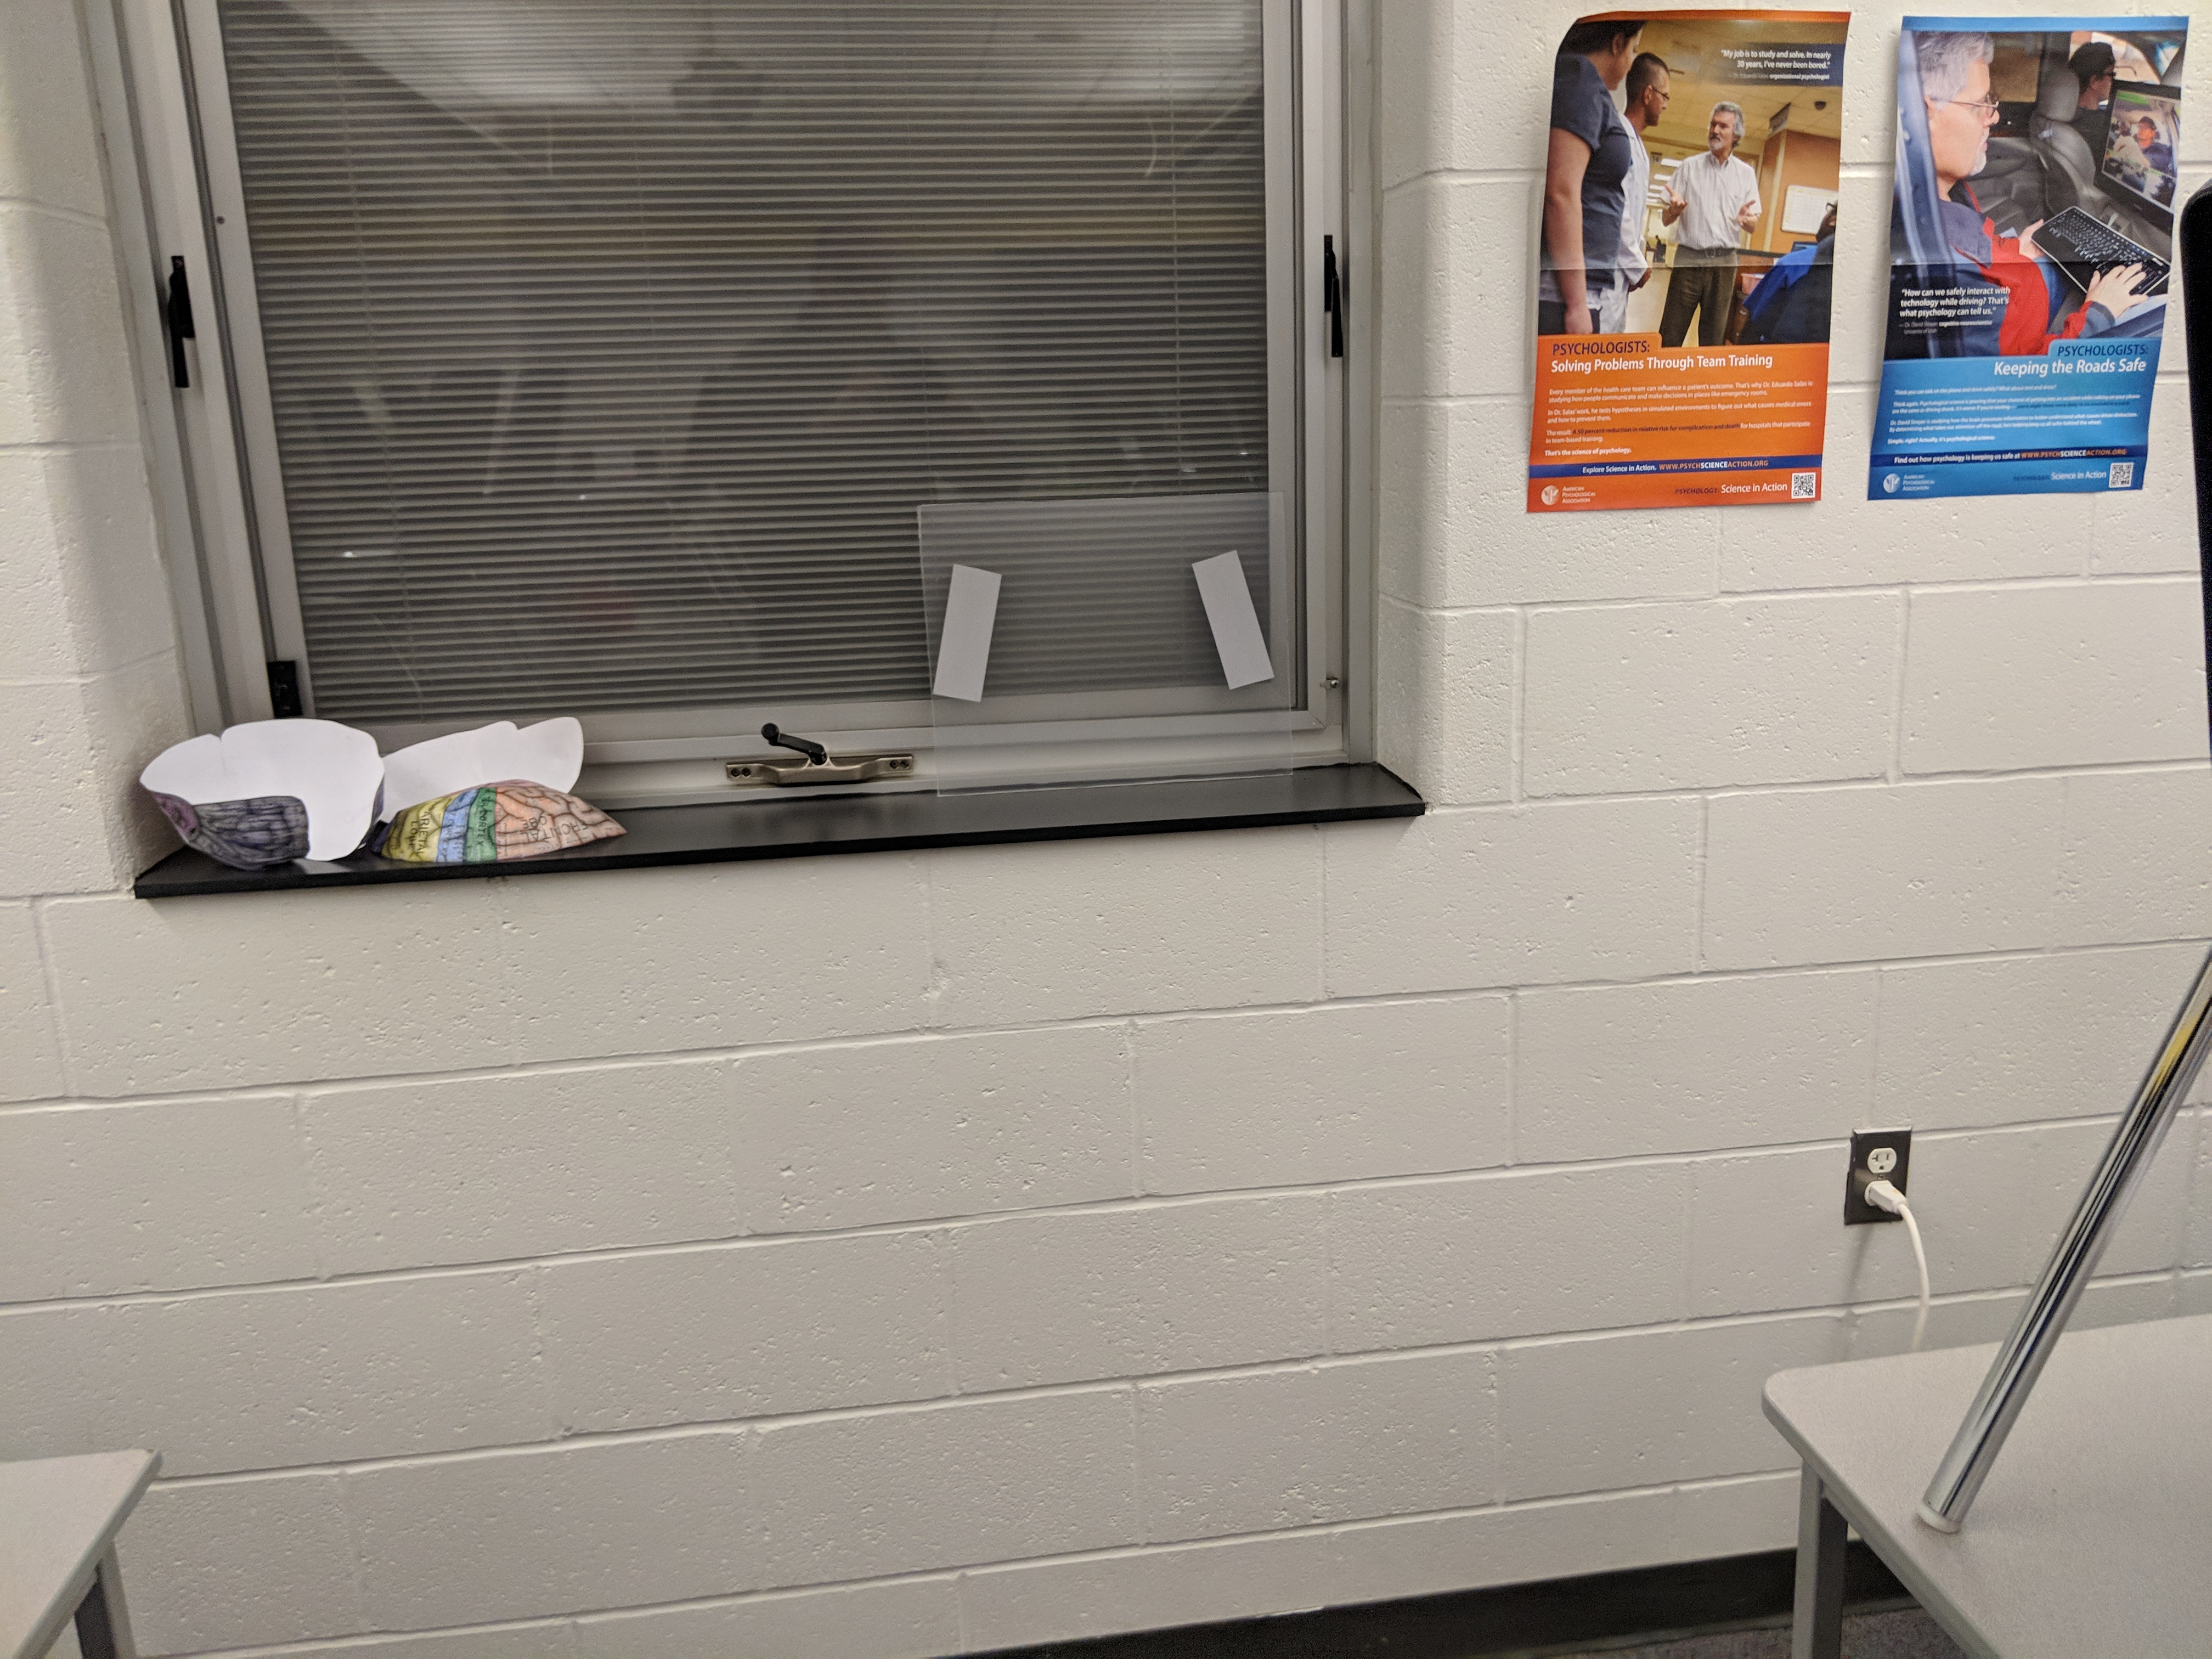vision_target: (927, 547, 1284, 709)
